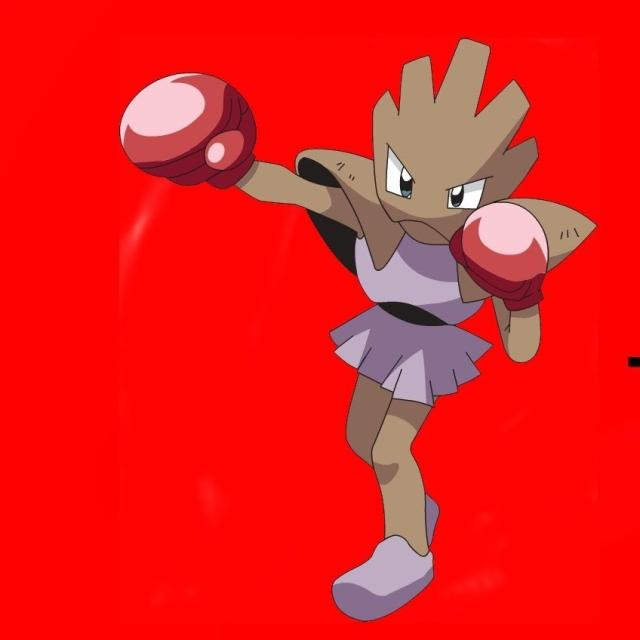Hitmonchan: (283, 103, 566, 466)
